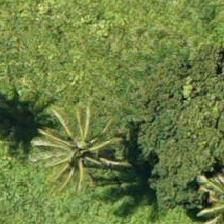coconut_tree: (36, 106, 126, 196)
